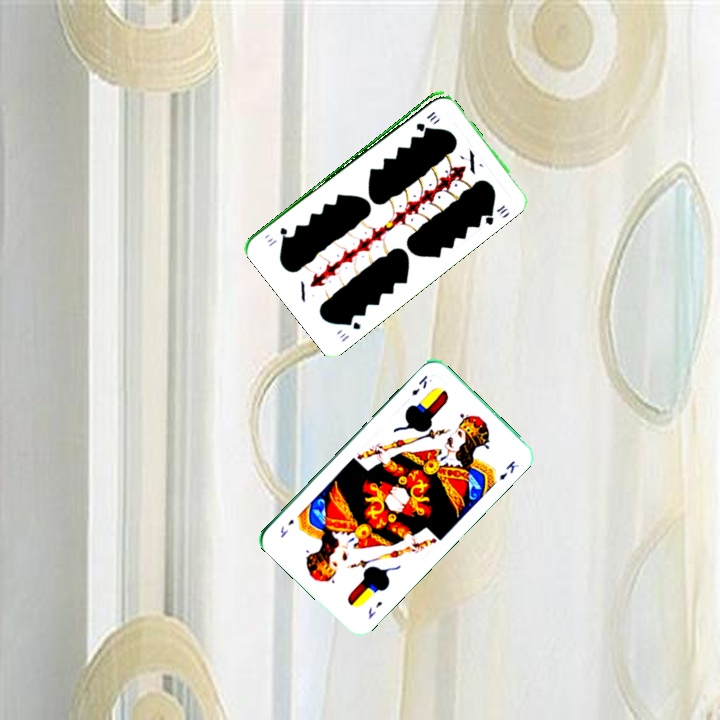EK: (408, 372, 430, 398), (364, 597, 385, 621)
G10: (336, 315, 363, 344), (412, 107, 438, 133)
